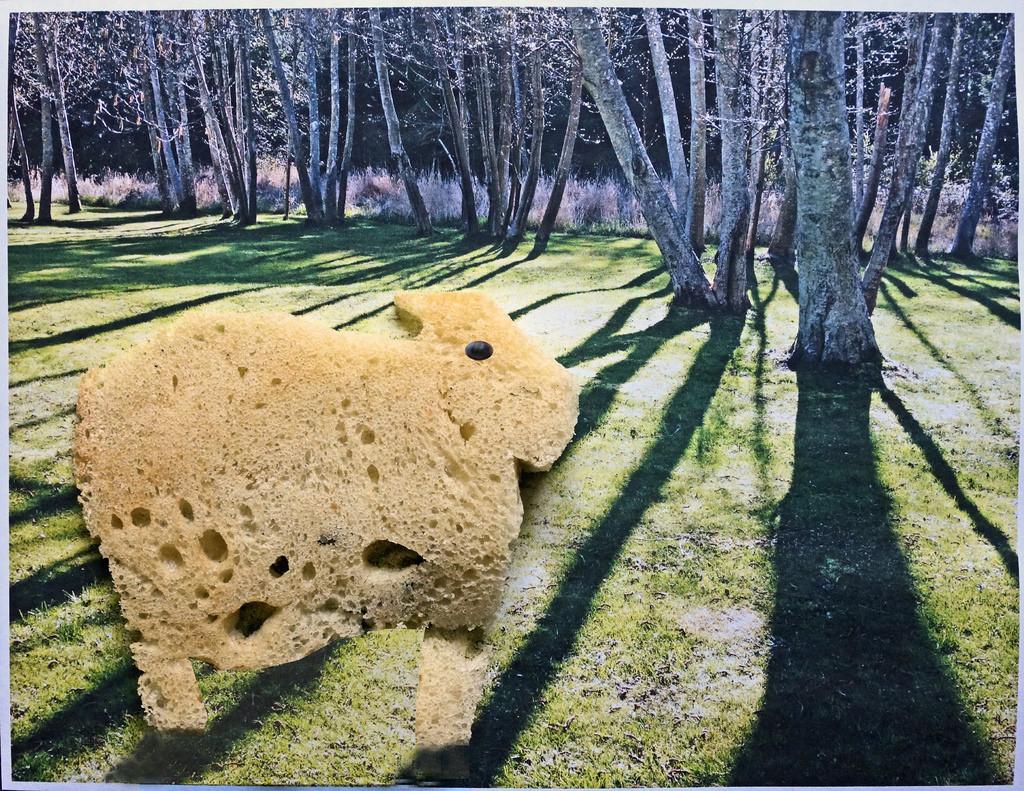slice of bread: (73, 292, 582, 670)
